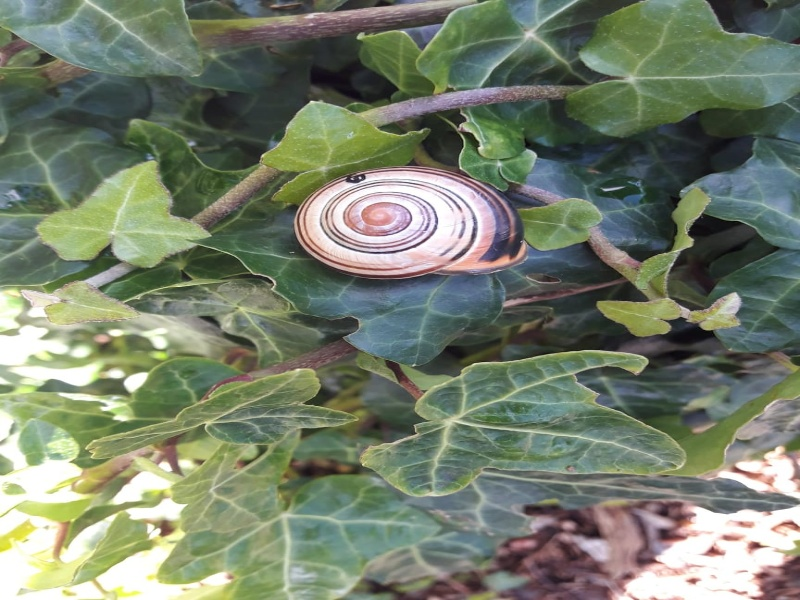snail_P_B: (284, 155, 546, 287)
